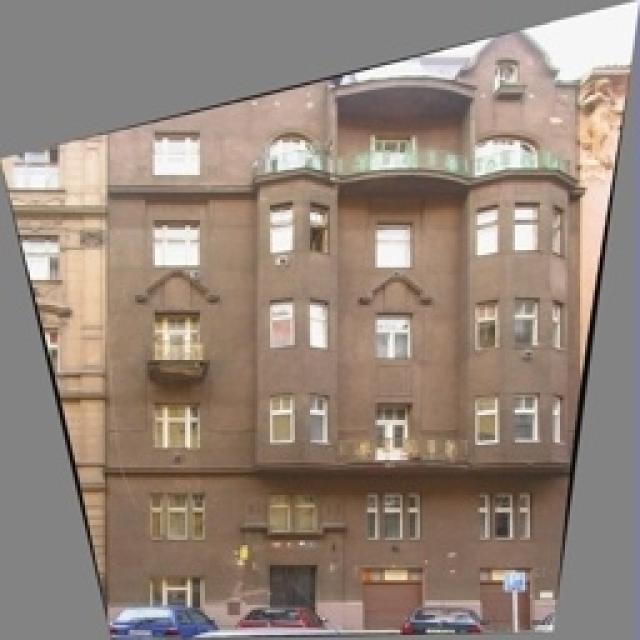building: (95, 5, 593, 640)
